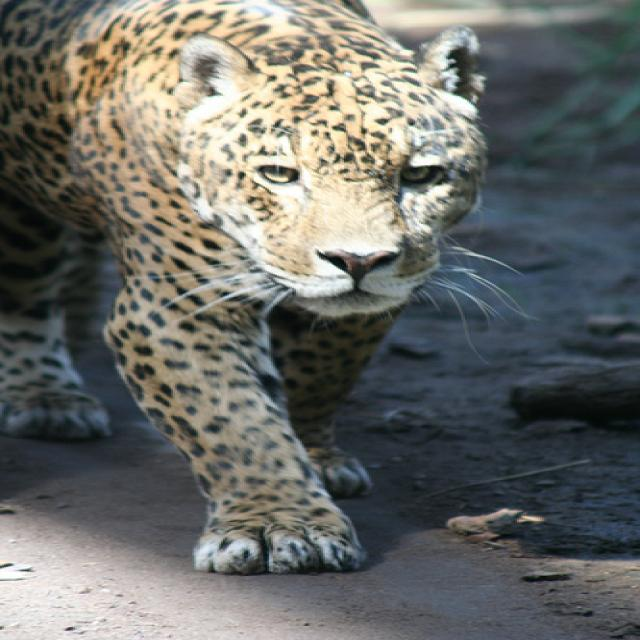Leopard: (0, 0, 540, 575)
